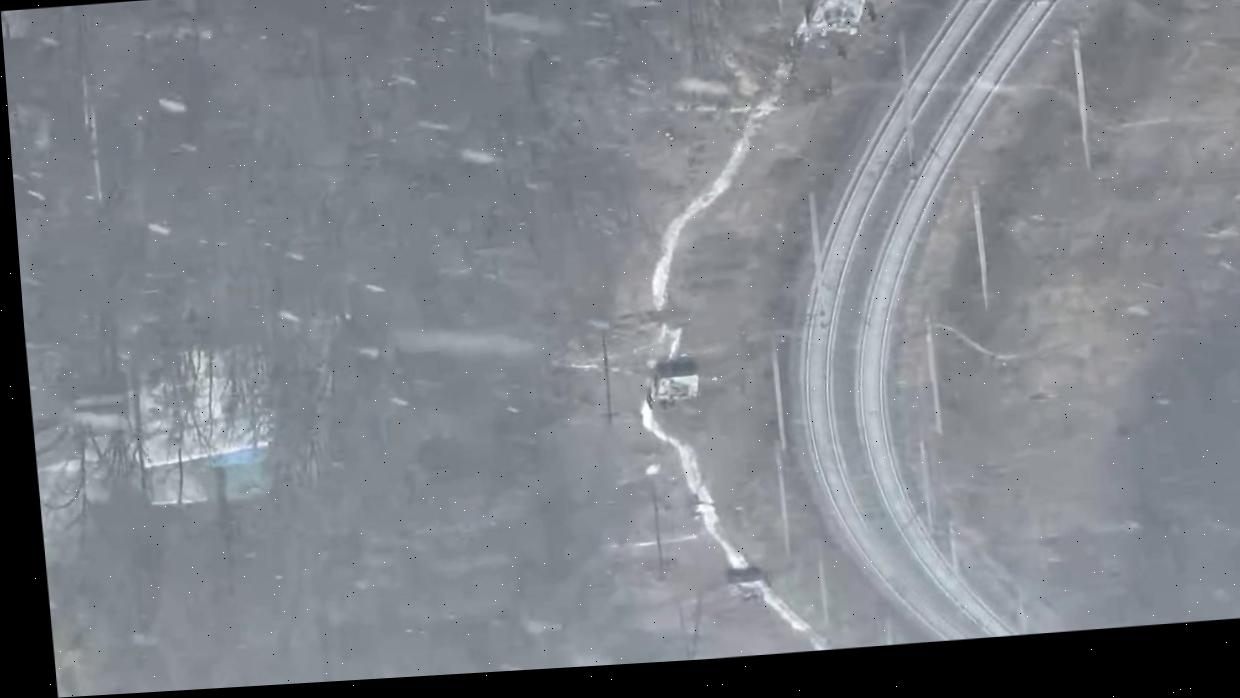person: (817, 72, 836, 104), (835, 38, 853, 63), (865, 0, 881, 25), (643, 389, 652, 412), (667, 398, 677, 411), (659, 398, 668, 412)
tank: (801, 0, 869, 39), (651, 363, 702, 404), (726, 565, 772, 601)
